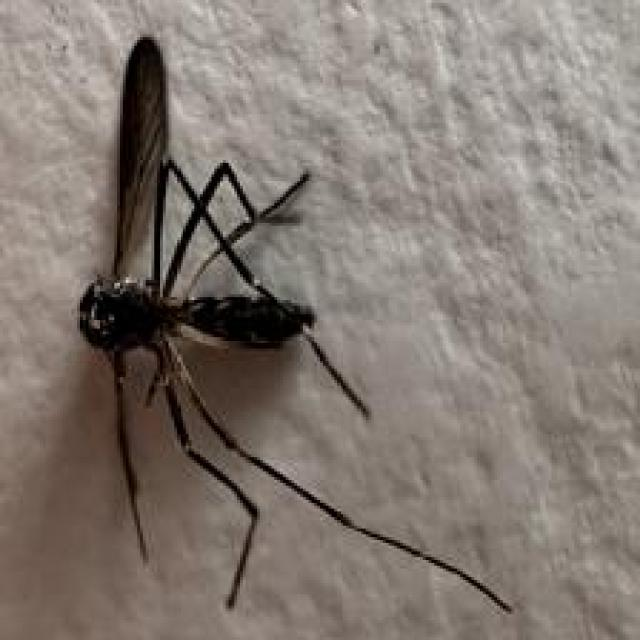Aedes albopictus: (74, 33, 514, 616)
